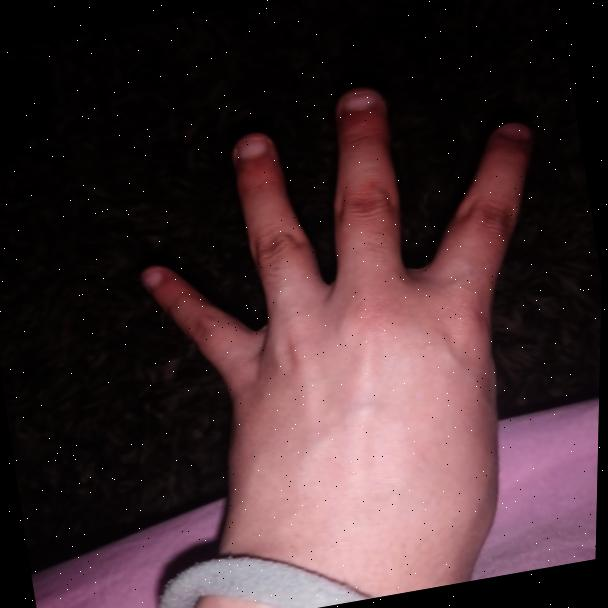four: (89, 63, 583, 540)
